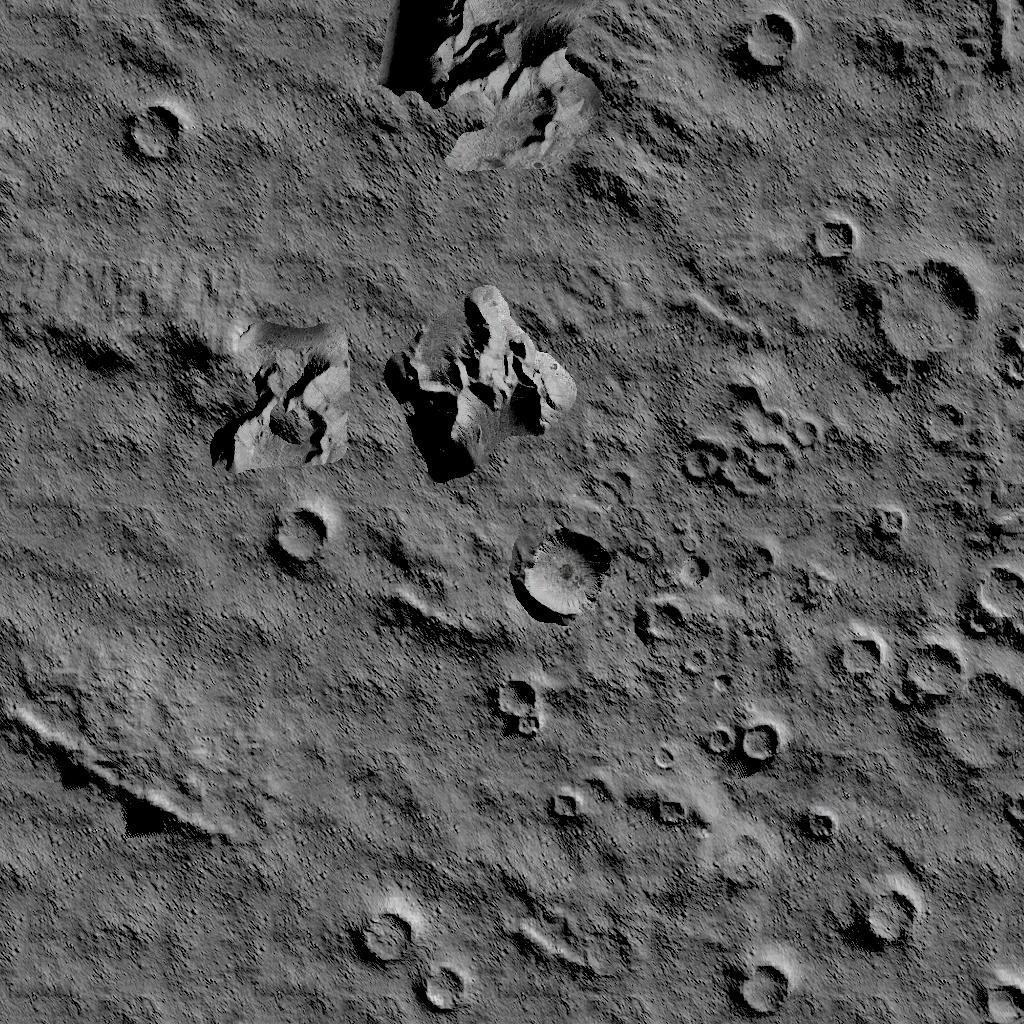Boulders: (0, 266, 353, 476), (378, 0, 652, 218), (382, 286, 580, 486), (13, 702, 235, 852), (364, 516, 496, 660), (0, 120, 19, 245)
Crater: (825, 560, 1024, 773), (864, 256, 1024, 456), (669, 360, 817, 510), (346, 896, 468, 1015), (510, 510, 622, 630), (634, 540, 706, 654), (724, 0, 811, 88), (112, 96, 203, 179), (840, 878, 926, 961), (260, 496, 344, 580), (695, 710, 785, 774), (719, 948, 793, 1024), (488, 671, 546, 740), (964, 961, 1020, 1024), (798, 210, 856, 269), (538, 776, 590, 834), (642, 784, 694, 837), (790, 800, 842, 850), (989, 787, 1024, 855), (869, 496, 916, 544)
Plan surface: (6, 870, 332, 1024), (5, 494, 251, 679), (255, 680, 473, 858), (743, 102, 1024, 190), (241, 46, 353, 237)
